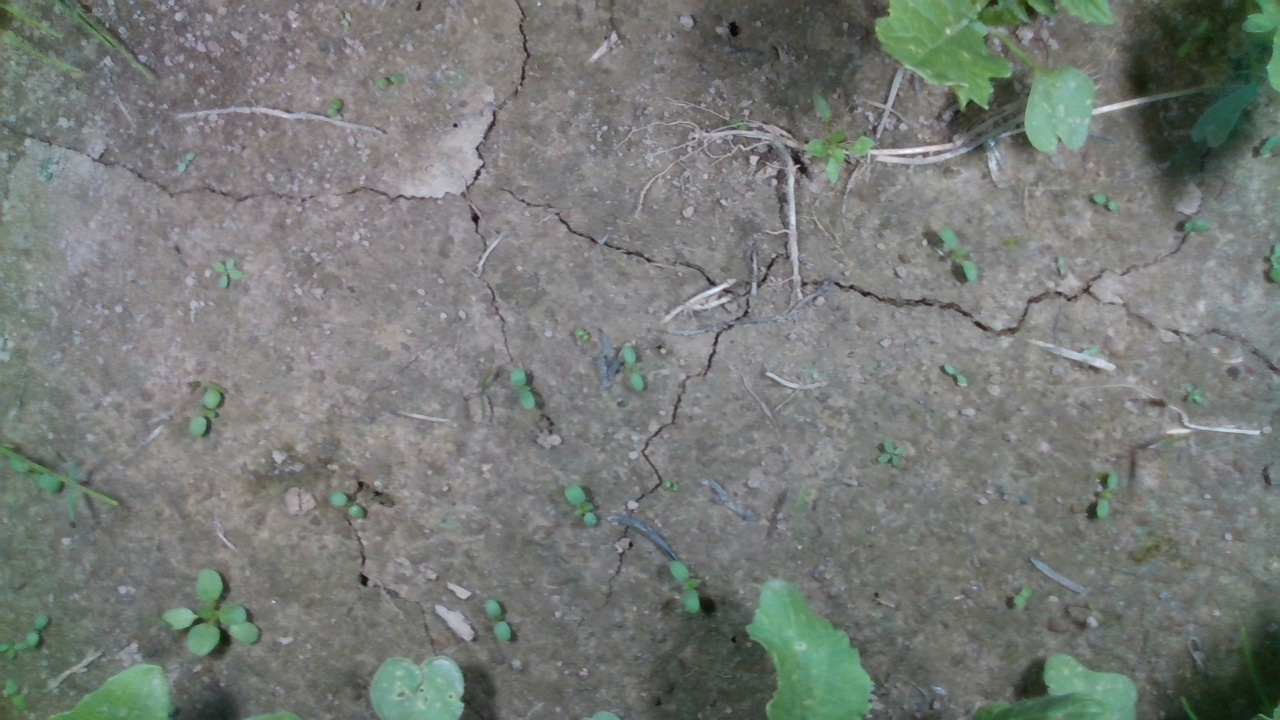weed: (931, 222, 979, 284), (666, 559, 704, 616), (563, 481, 599, 530), (189, 388, 222, 437), (481, 598, 512, 644), (327, 488, 368, 521), (1094, 467, 1119, 521), (509, 367, 536, 413), (210, 255, 244, 291), (620, 345, 645, 392), (875, 439, 905, 467), (941, 362, 969, 386), (1090, 190, 1121, 211), (372, 72, 406, 91), (1179, 218, 1211, 234), (1183, 384, 1205, 406), (1013, 584, 1032, 609), (326, 96, 344, 118), (661, 477, 681, 493)
